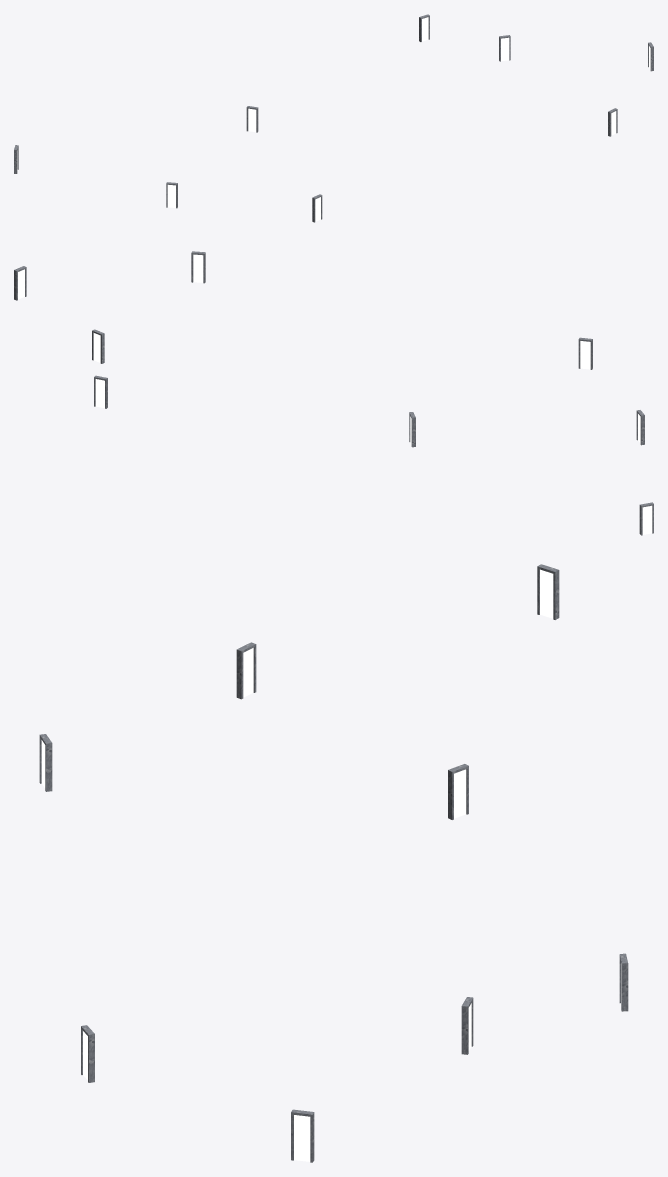
The model's file is sceneDraco4.gltf.
3 views of the same model, one above another, from view 1: azimuth 30°, elevation 25°; view 2: azimuth 150°, elevation 25°; view 3: azimuth 270°, elevation 25° (orthographic). The views are drawn at different scales.
Parts seen in each view (by area): view 1: Backing_LightBox, LIGHT_BOX_BIG; view 2: Backing_LightBox, LIGHT_BOX_BIG; view 3: Backing_LightBox, LIGHT_BOX_BIG.
Part boxes in pixels (x1,y1,x2,y2): Backing_LightBox: (14,14,653,222); LIGHT_BOX_BIG: (17,17,650,221); Backing_LightBox: (14,251,653,535); LIGHT_BOX_BIG: (18,254,652,534); Backing_LightBox: (39,564,628,1162); LIGHT_BOX_BIG: (41,569,621,1161).
Size of the model in its own units: 104 by 6.39 by 45.59.
2 materials, 1 textured.
